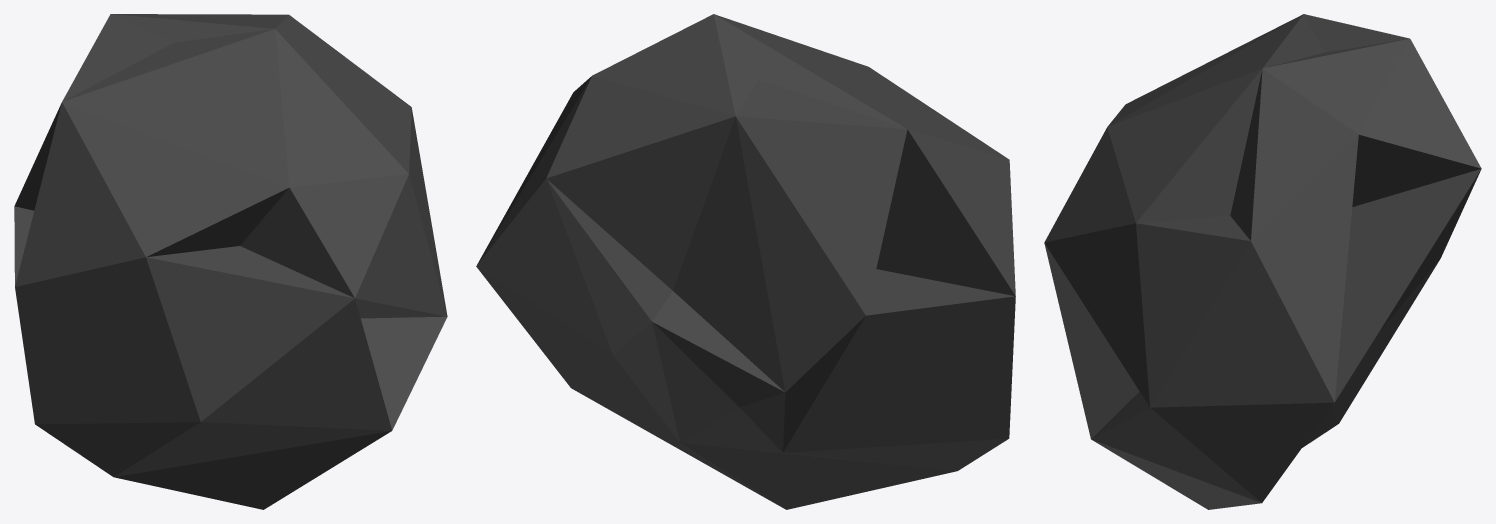
Rendered from Asteroid.004.fbx.
3 renders of one model, left to right at view 1: azimuth 30°, elevation 25°; view 2: azimuth 150°, elevation 25°; view 3: azimuth 270°, elevation 25°, orthographic. The views are drawn at different scales.
Visible parts, largest first — view 1: Asteroid.004; view 2: Asteroid.004; view 3: Asteroid.004.
Part boxes in pixels (box(x1,y1,x2,y2)): Asteroid.004: box(14, 14, 447, 509); Asteroid.004: box(476, 14, 1015, 509); Asteroid.004: box(1044, 14, 1481, 509).
Size of the model in its own units: 9.97 by 9.77 by 8.41.
